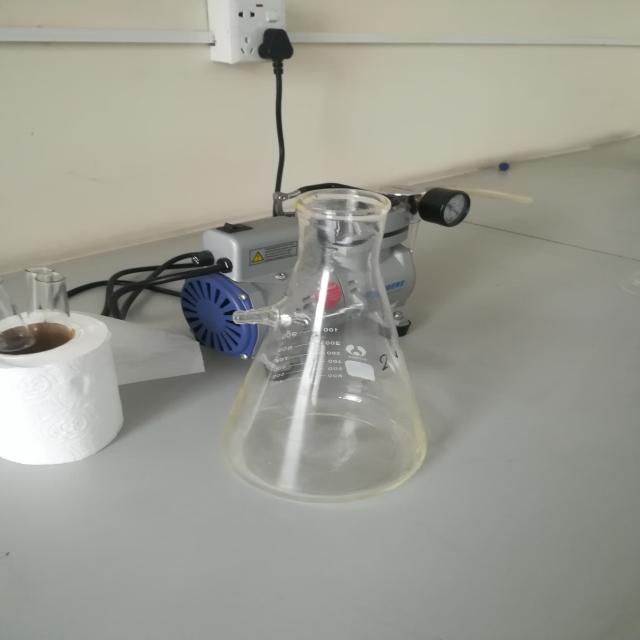Conical_Flask: (192, 150, 464, 527)
